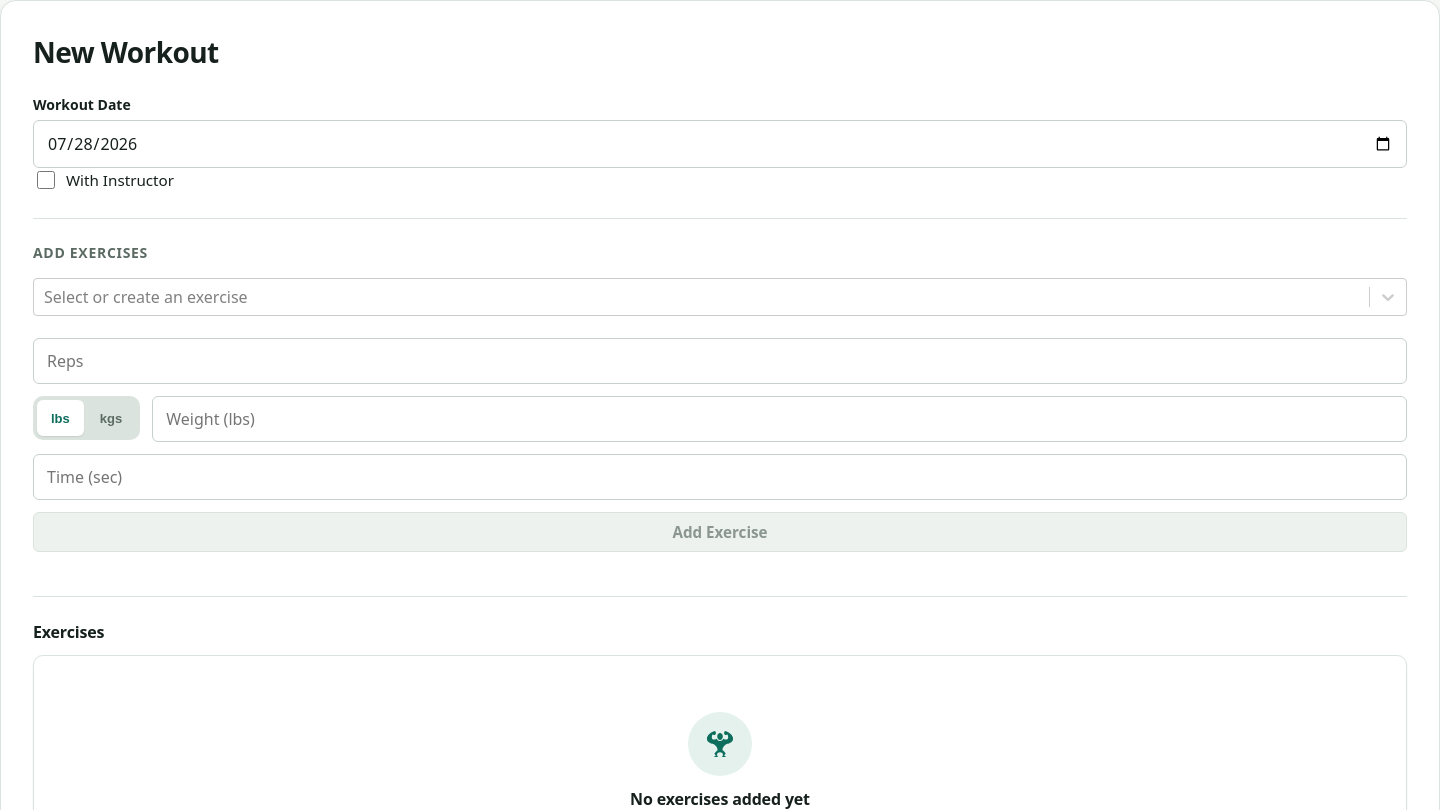
WorkoutForm › weight unit toggle › switches to kgs unit when kgs button is clicked
The width and height of the screenshot is (1440, 810).
Click the button "kgs" at x=111, y=418, box [86,400,136,436]
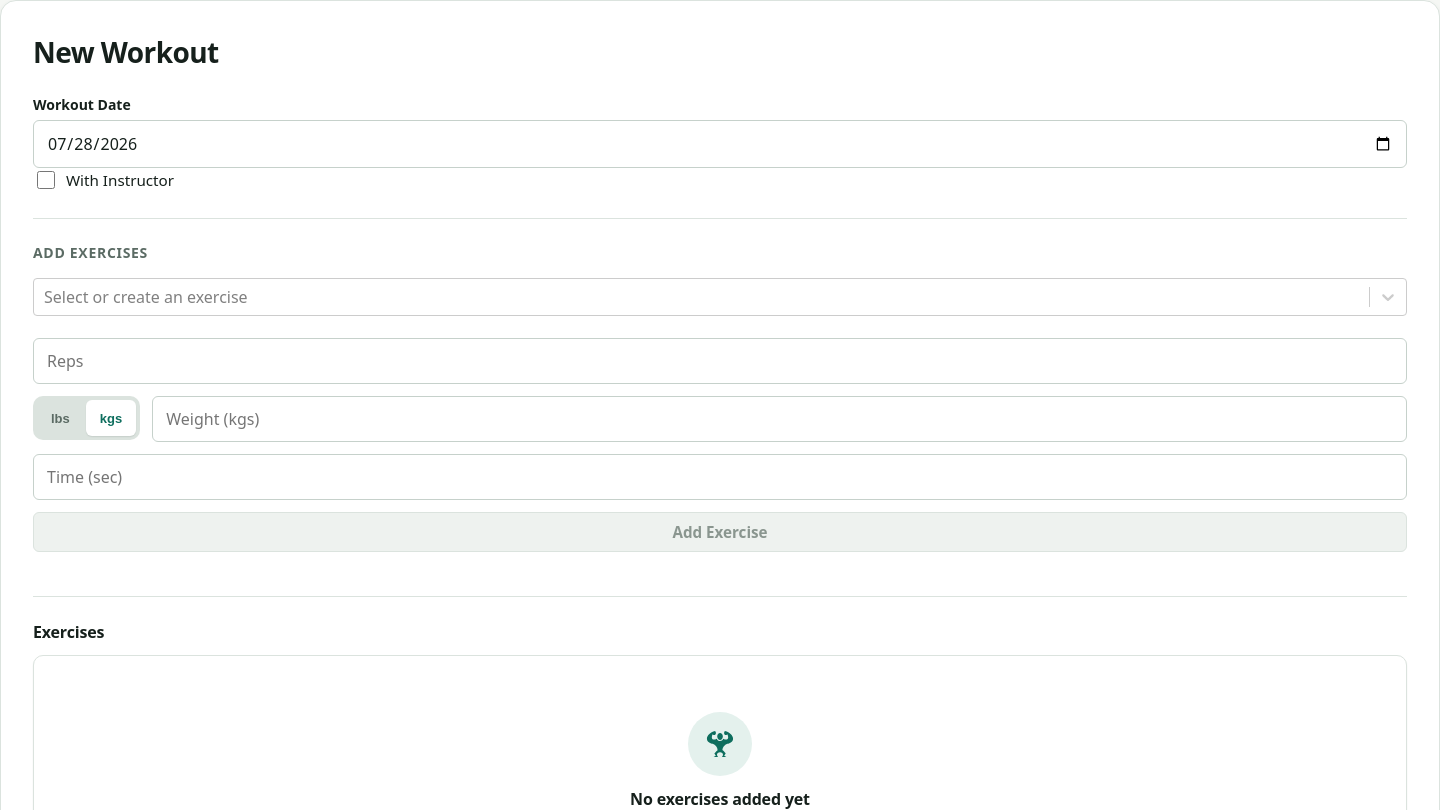
Check: the number field with placeholder "Weight (kgs)" is shown, box [152,396,1407,442]
